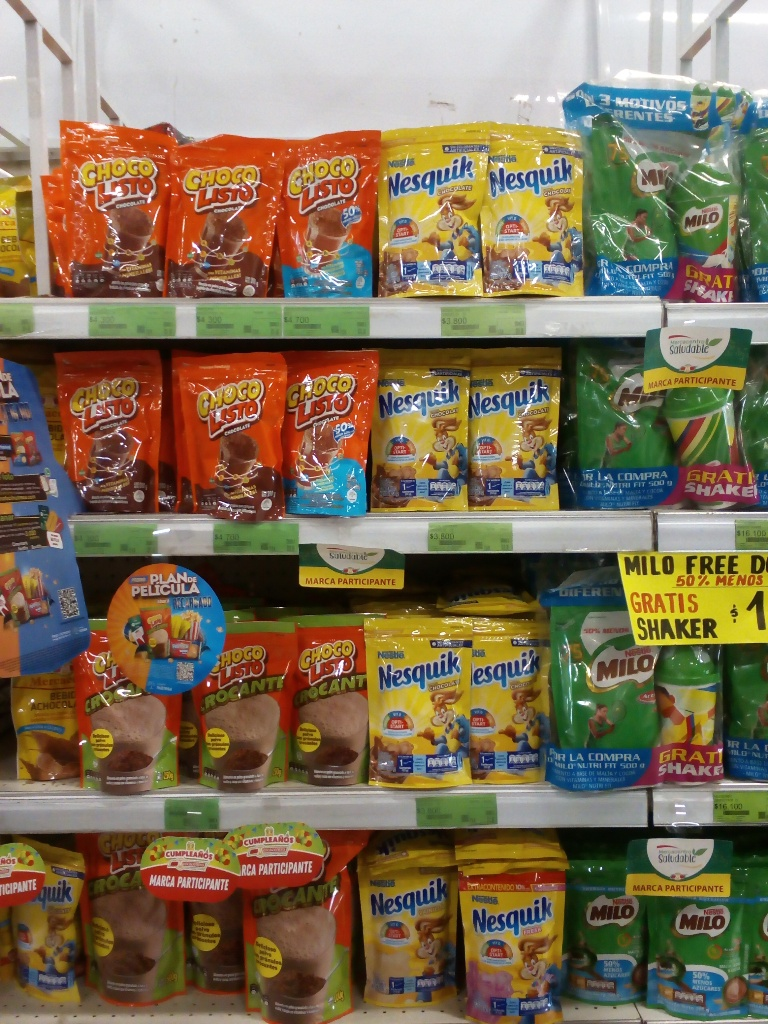COL0170102DYP25000: (67, 620, 182, 792)
COL0170102DYP50000: (78, 829, 195, 1007)
COL0170103DYP20000: (58, 117, 171, 297)
COL0170104DYP20000: (281, 126, 383, 302)
COL0170205DYP20000: (564, 858, 652, 1017)
COL0170205DYP50000: (577, 103, 673, 294)
COL0170303DYP20000: (381, 117, 489, 301)
COL0170306DYP20000: (356, 862, 461, 1011)
